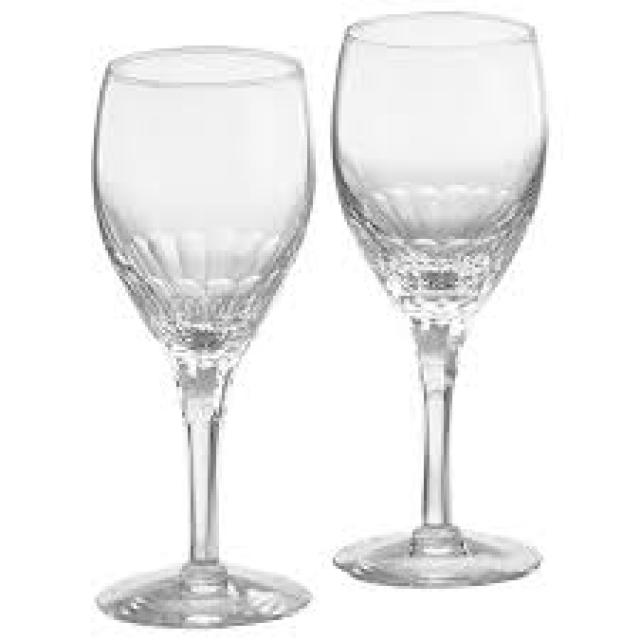glass: (91, 45, 313, 626), (327, 9, 546, 583)
